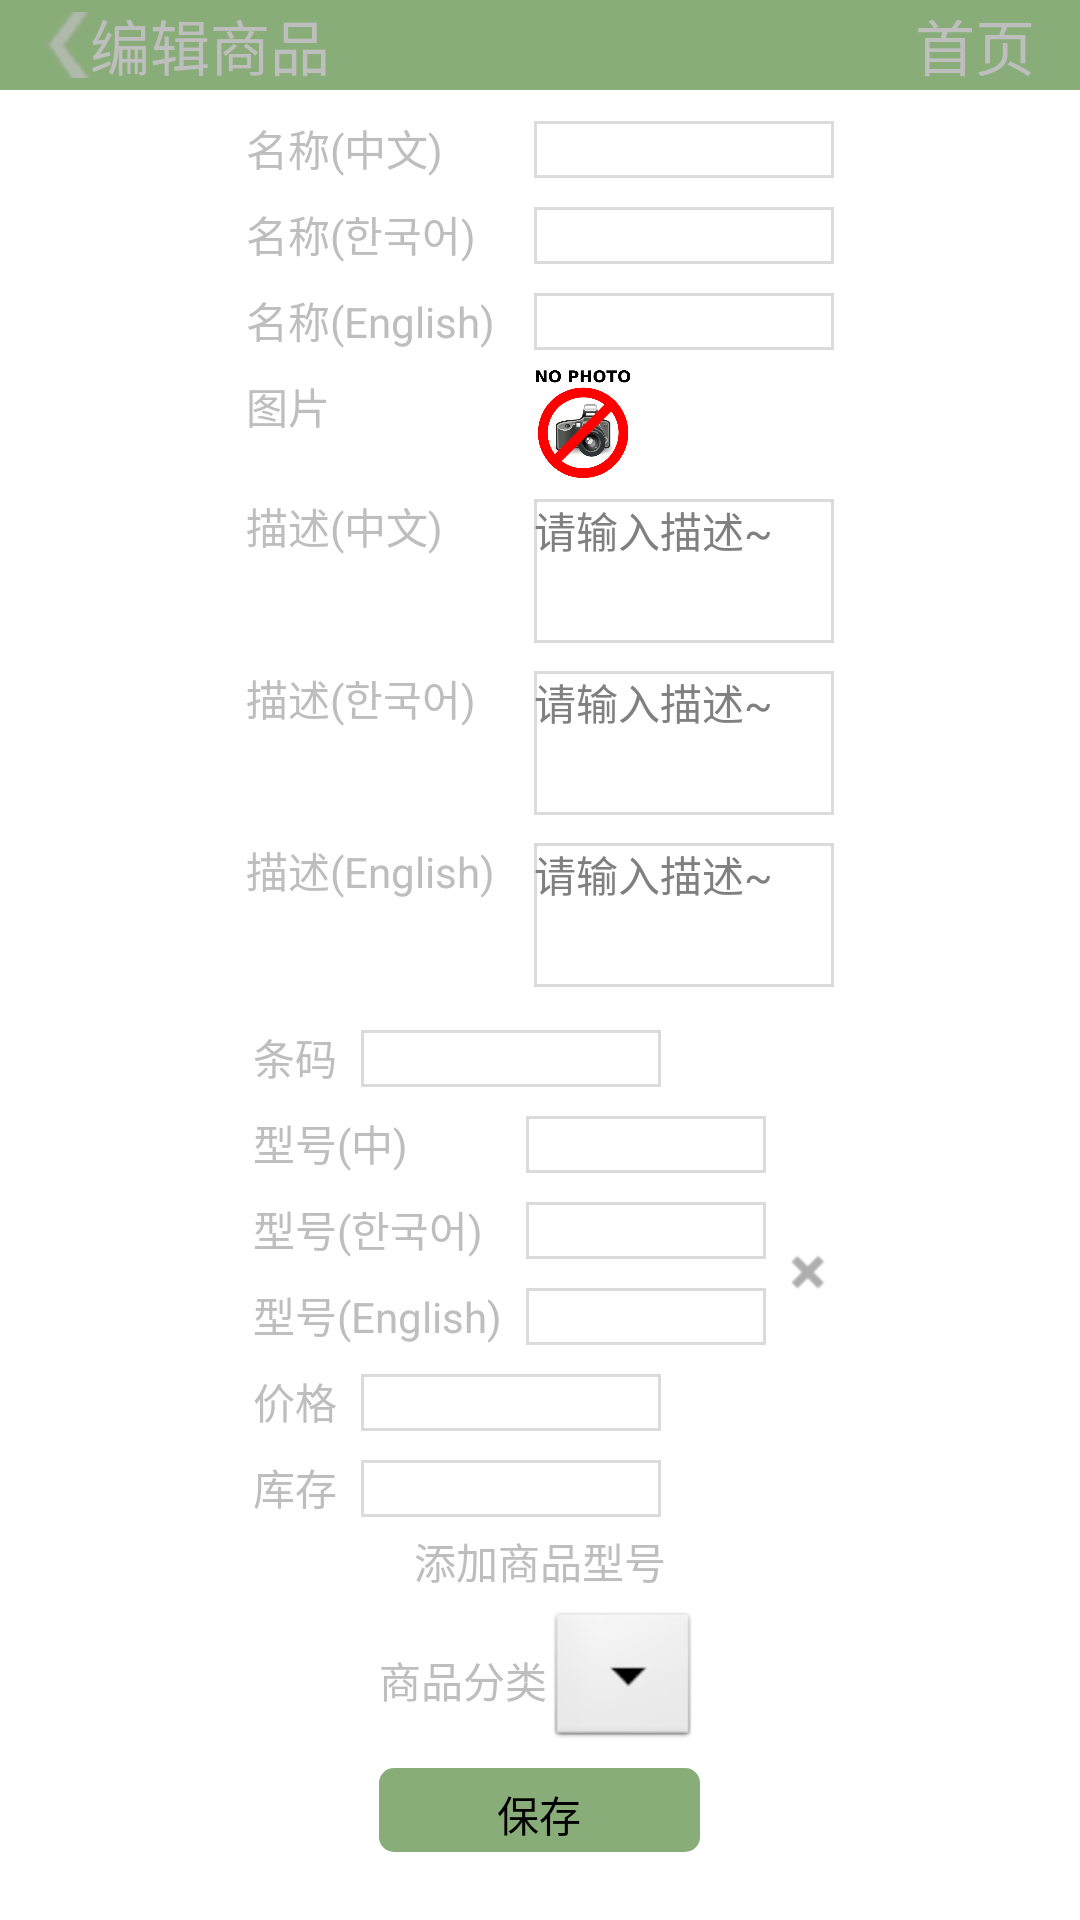

Named icons in this screenshot (1080px x 1920px) and their centers, point (x, y):
arrow left: point (68, 45)
del: point (808, 1272)
